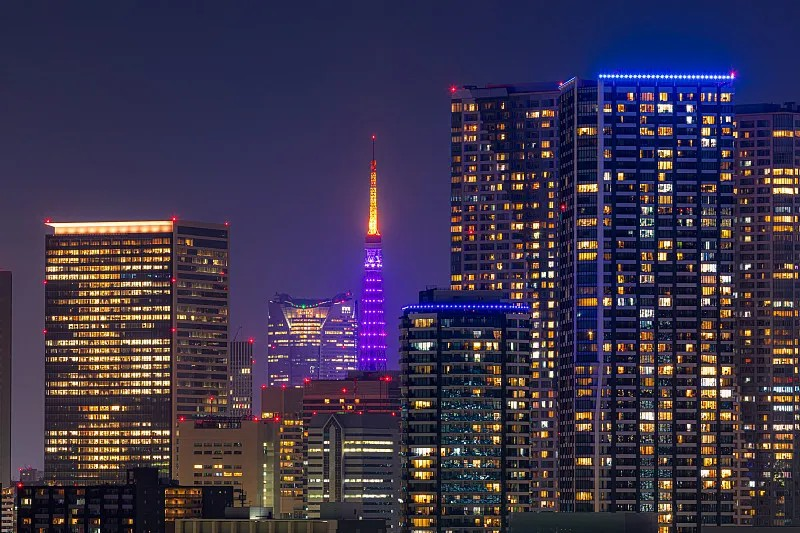Tokyo: (355, 132, 390, 375)
